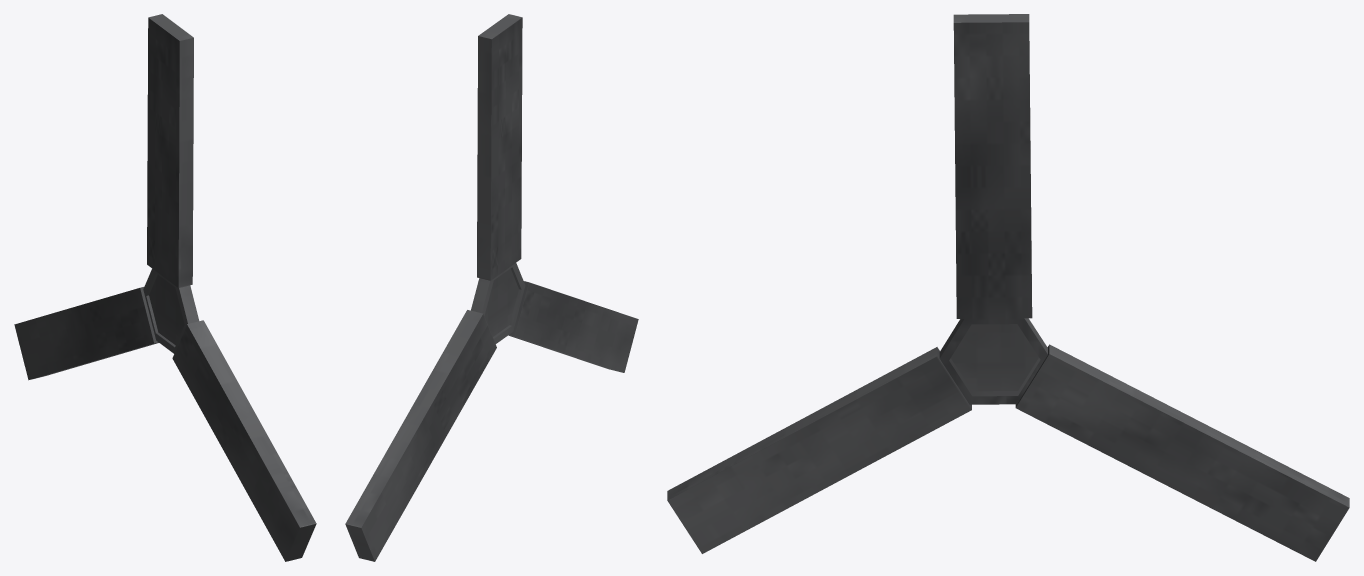
File: Helicopter__Small_blades.obj
The picture shows the model from 3 angles, left to right: view 1: azimuth 30°, elevation 25°; view 2: azimuth 150°, elevation 25°; view 3: azimuth 270°, elevation 25°; orthographic projection. The views are drawn at different scales.
Visible parts, largest first — view 1: elice_mica_Elicopter_Complet.002; view 2: elice_mica_Elicopter_Complet.002; view 3: elice_mica_Elicopter_Complet.002.
Part boxes in pixels (bbox=[...]): elice_mica_Elicopter_Complet.002: bbox=[14, 14, 316, 561]; elice_mica_Elicopter_Complet.002: bbox=[345, 14, 638, 561]; elice_mica_Elicopter_Complet.002: bbox=[667, 14, 1349, 561].
Bounding box in the file's own units: 0.1733 × 4.43 × 5.09.
